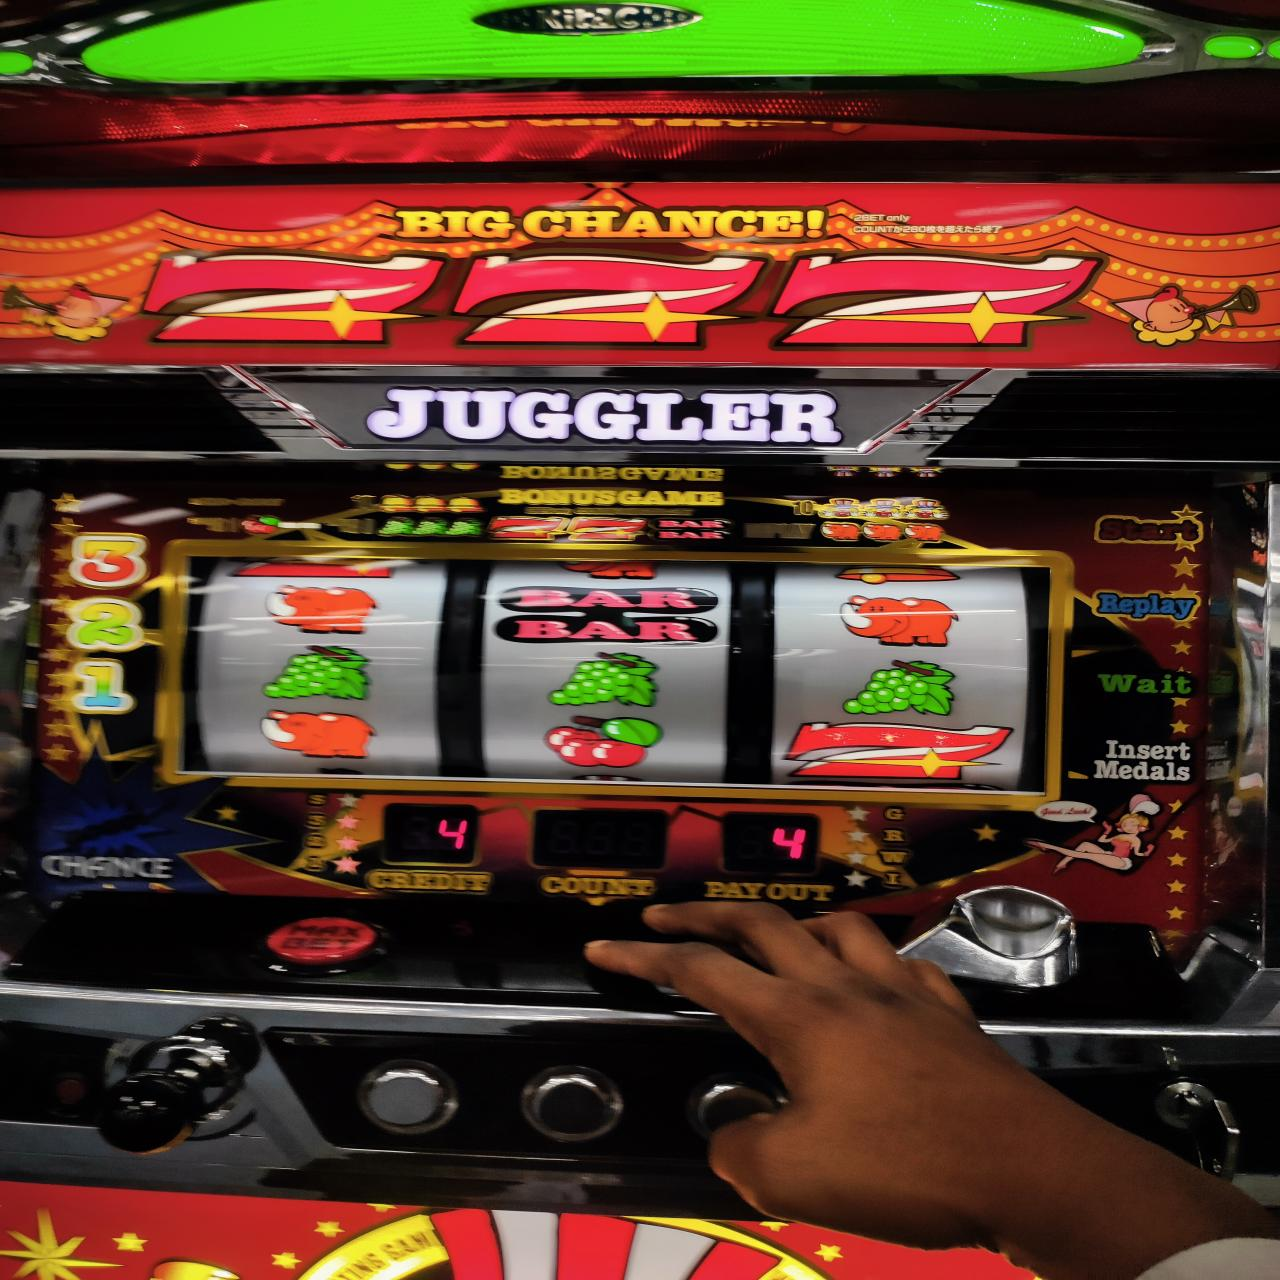7: (783, 720, 1016, 784)
8: (837, 591, 959, 648), (256, 708, 379, 761), (265, 583, 377, 638)
Display: (173, 549, 1063, 806)
bar: (497, 583, 716, 645)
cherry: (545, 717, 665, 769)
grape: (843, 659, 961, 719), (259, 641, 372, 703), (544, 652, 658, 713)
